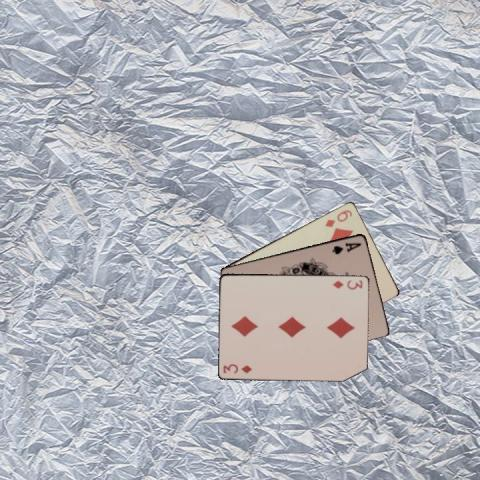3d: (330, 276, 364, 290), (220, 361, 253, 375)
6d: (322, 207, 353, 228)
As: (329, 240, 363, 256)
